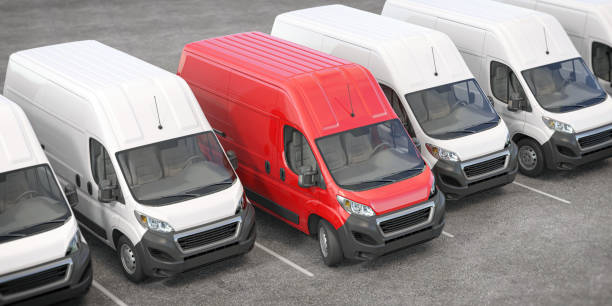van: (175, 30, 446, 267), (2, 39, 258, 285), (268, 4, 520, 203), (380, 1, 612, 177), (1, 96, 93, 306)
